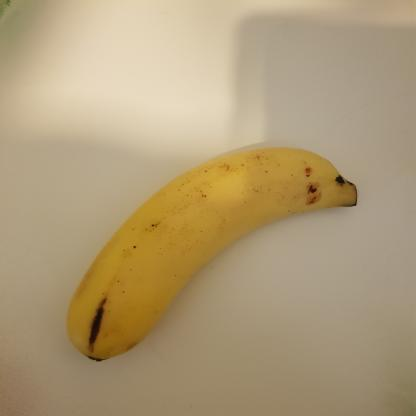banana: (62, 138, 365, 363)
